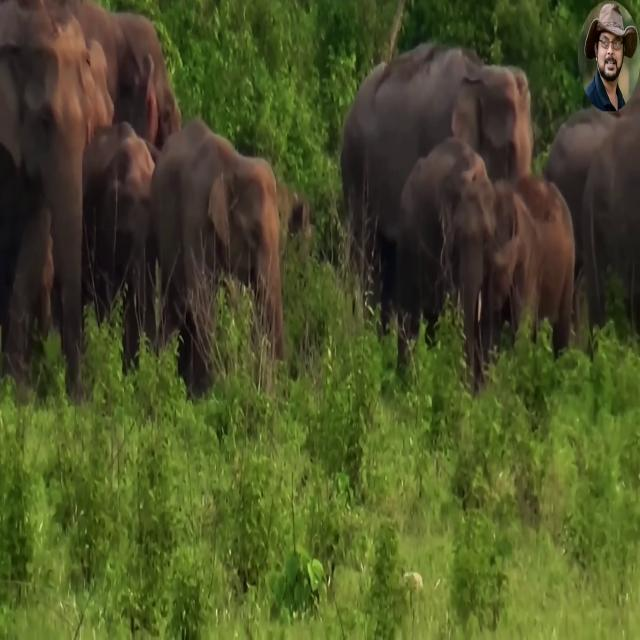Elephant: (340, 41, 534, 348), (0, 0, 115, 406), (147, 116, 285, 402)
person: (583, 2, 638, 111)
